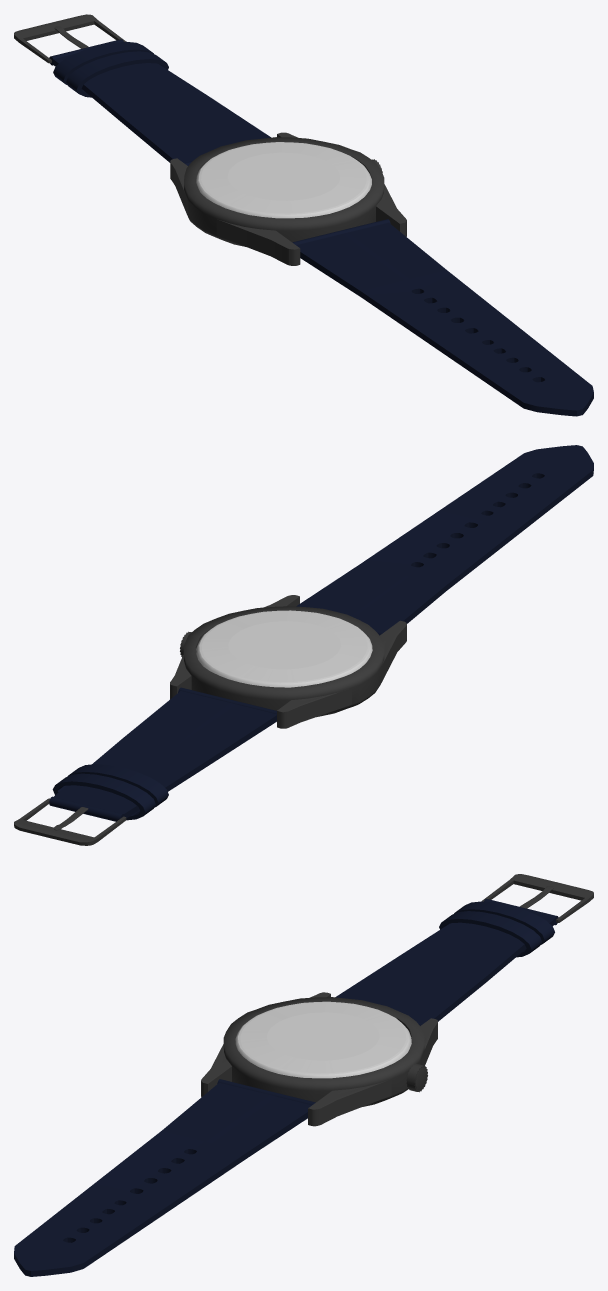
Rendered from watchobj.obj.
The picture shows the model from 3 angles, top to bottom: view 1: azimuth 30°, elevation 25°; view 2: azimuth 150°, elevation 25°; view 3: azimuth 330°, elevation 25°; orthographic projection.
Parts seen in each view (by area): view 1: watchBandHoles, watchBandBuckle1, watchFace, watchBody, watchBuckle; view 2: watchBandHoles, watchBandBuckle1, watchFace, watchBody, watchBuckle; view 3: watchBandHoles, watchBandBuckle1, watchFace, watchBody, watchBuckle.
Boxes of the visible parts, box(x1,y1,x2,y2) form: watchBandHoles: box(292, 219, 593, 416); watchBandBuckle1: box(49, 39, 270, 165); watchFace: box(196, 142, 371, 218); watchBody: box(170, 132, 406, 265); watchBuckle: box(14, 14, 125, 63); watchBandHoles: box(296, 445, 593, 635); watchBandBuckle1: box(49, 687, 276, 821); watchFace: box(196, 610, 372, 687); watchBody: box(170, 595, 406, 728); watchBuckle: box(14, 798, 126, 845); watchBandHoles: box(14, 1079, 315, 1276); watchBandBuckle1: box(335, 898, 558, 1025); watchFace: box(235, 1001, 411, 1078); watchBody: box(201, 992, 437, 1126); watchBuckle: box(482, 874, 593, 922).
Size of the model in its own units: 6.3 by 1.33 by 31.42.
